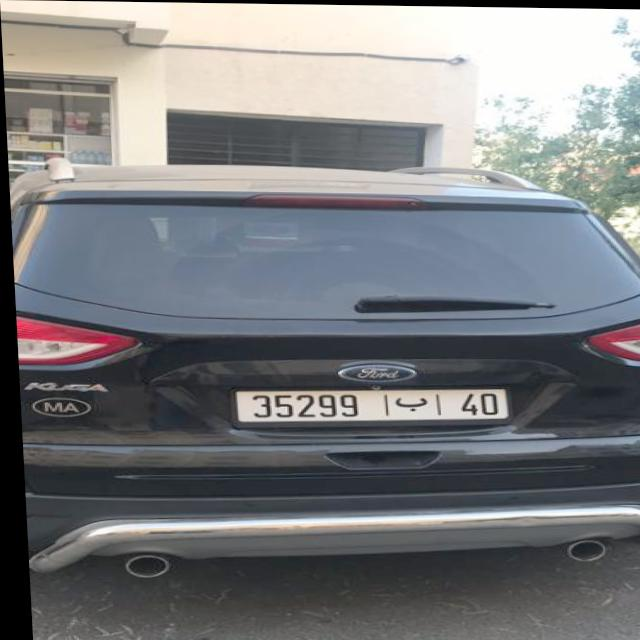License-Plate: (233, 387, 506, 422)
